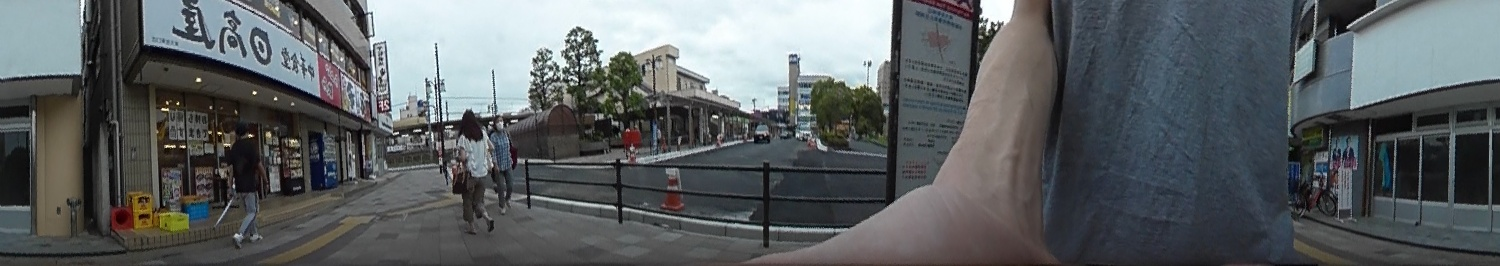person: (449, 105, 497, 232), (226, 118, 267, 244), (490, 112, 519, 212)
